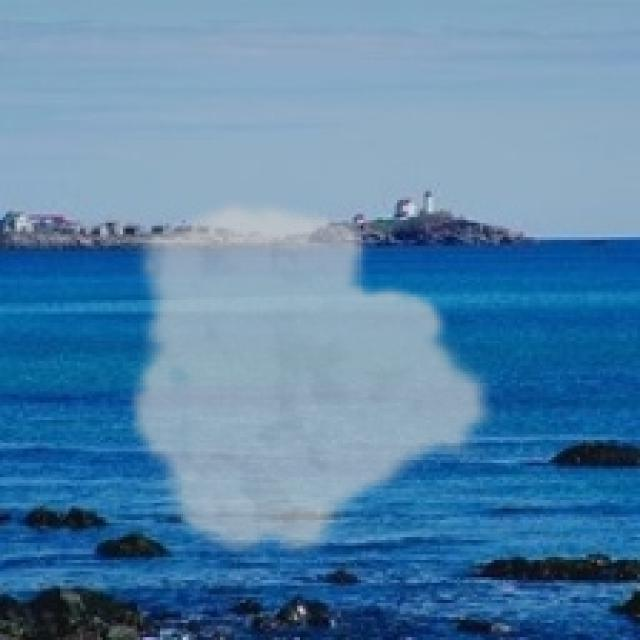Smoke: (126, 197, 500, 566)
